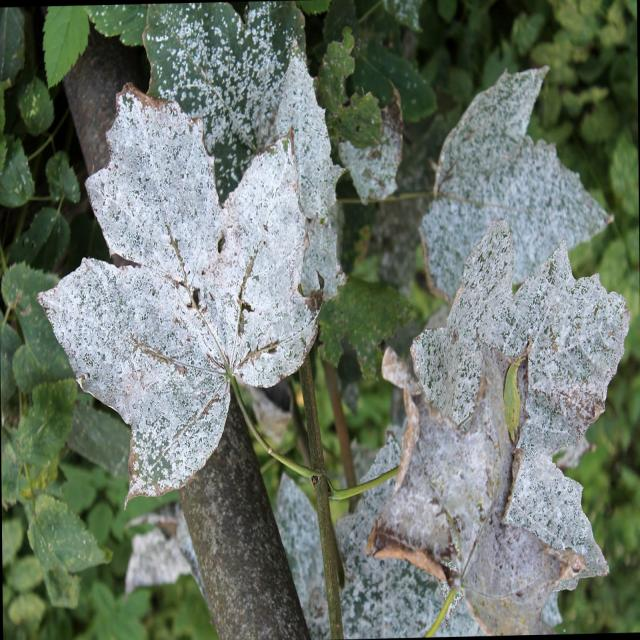Powdery Mildew: (37, 79, 326, 509), (418, 64, 614, 304)
